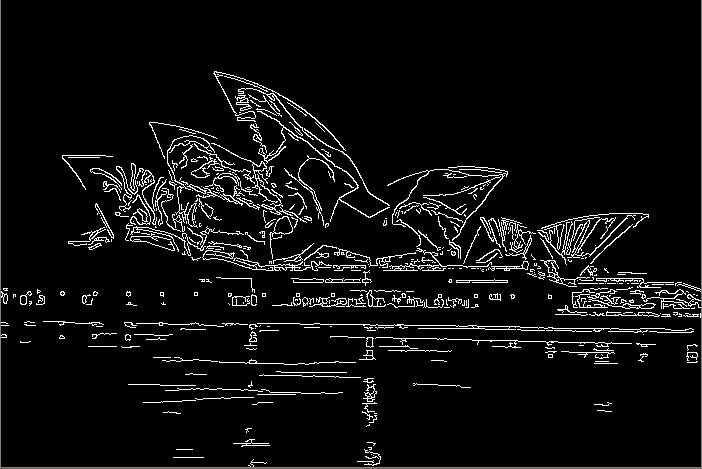opera house: (57, 58, 653, 296)
